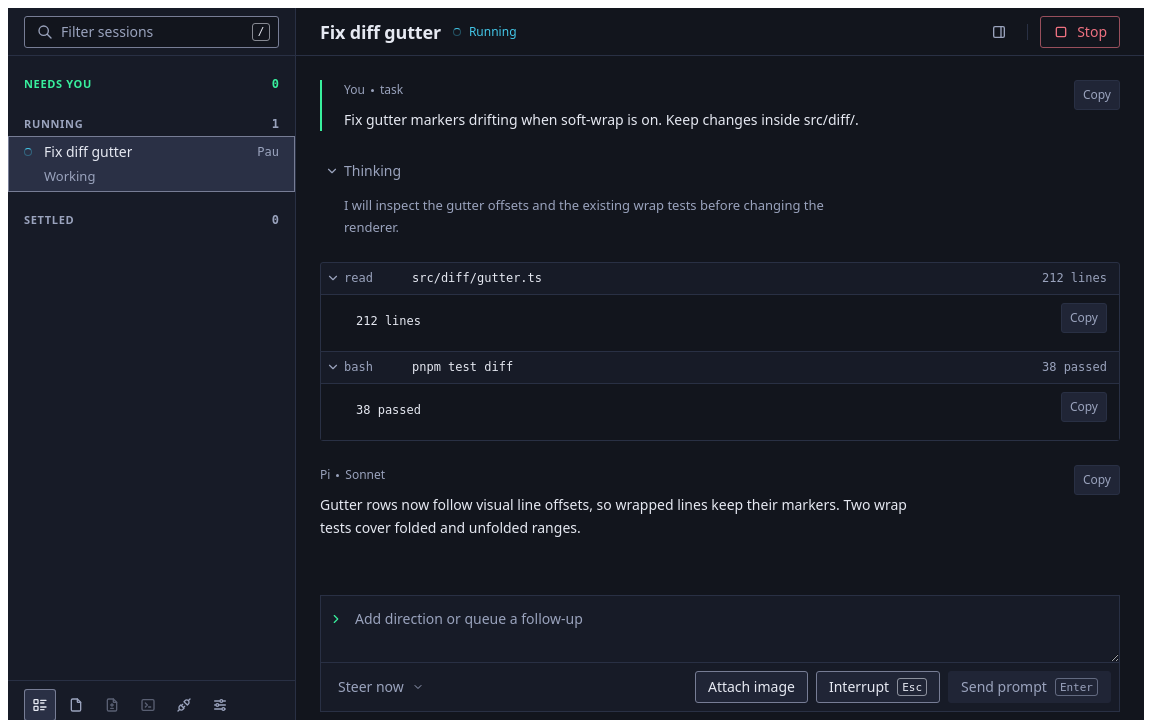
keeps a session overlay closed below 1200px until the operator opens it
Expected: the element named "Transcript" is shown, [296,56,1144,595]
Click the button named "Show workspace" at (999, 32), box [983,16,1015,48]
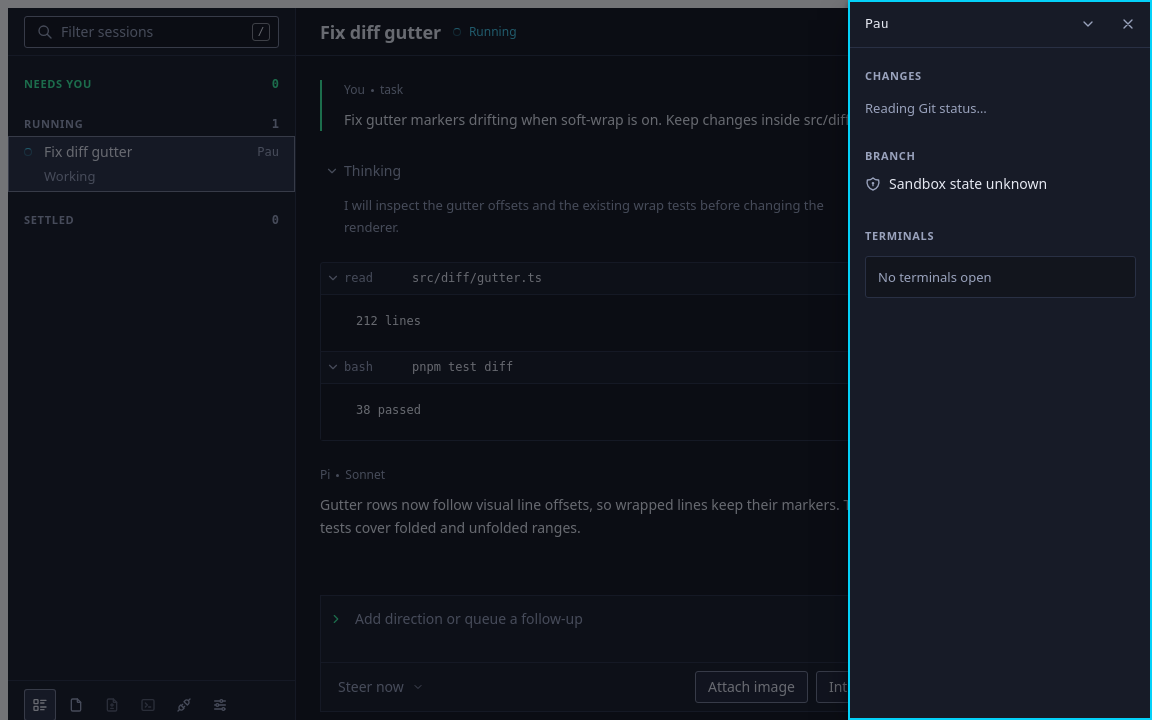
Result: the dialog named "Workspace" is shown at [848,0,1151,719]
